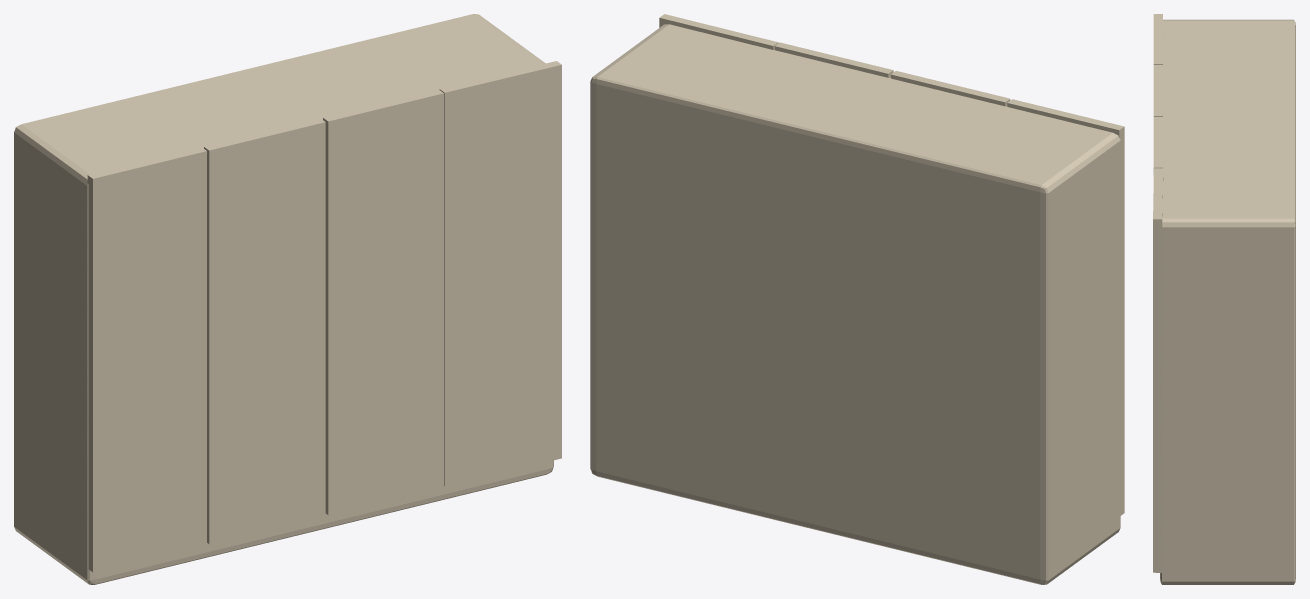
The picture shows the model from 3 angles, left to right: view 1: azimuth 30°, elevation 25°; view 2: azimuth 150°, elevation 25°; view 3: azimuth 270°, elevation 25°; orthographic projection. The views are drawn at different scales.
Visible parts, largest first — view 1: ZBrush_defualt_group, Group15, Group20, Group10, Group25; view 2: ZBrush_defualt_group, Group10, Group25, Group15, Group20; view 3: ZBrush_defualt_group, Group25, Group20, Group15, Group10.
Part boxes in pixels (left/top/right/bottom): ZBrush_defualt_group: left=14, top=14, right=553, bottom=584; Group15: left=204, top=118, right=325, bottom=544; Group20: left=323, top=89, right=443, bottom=514; Group10: left=87, top=147, right=206, bottom=572; Group25: left=439, top=61, right=561, bottom=486; ZBrush_defualt_group: left=590, top=24, right=1120, bottom=584; Group10: left=1007, top=99, right=1124, bottom=515; Group25: left=659, top=14, right=778, bottom=49; Group15: left=891, top=71, right=1010, bottom=106; Group20: left=774, top=42, right=893, bottom=77; ZBrush_defualt_group: left=1160, top=19, right=1295, bottom=584; Group25: left=1153, top=168, right=1163, bottom=572; Group20: left=1153, top=117, right=1162, bottom=174; Group15: left=1153, top=65, right=1162, bottom=116; Group10: left=1153, top=14, right=1162, bottom=64.
Bounding box in the file's own units: 4.59 × 3.84 × 1.35.
